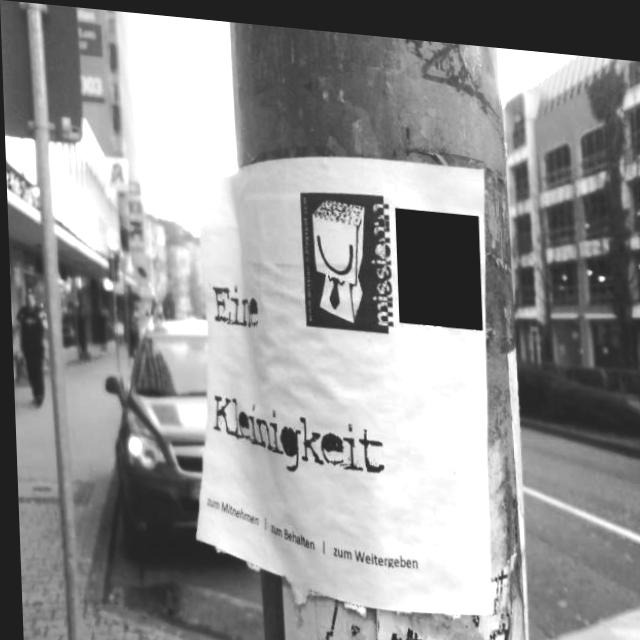qr_code: (394, 200, 480, 321)
